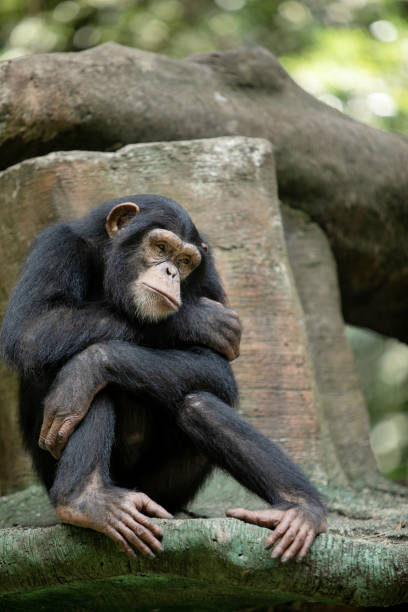chimpanzee: (74, 180, 229, 336)
